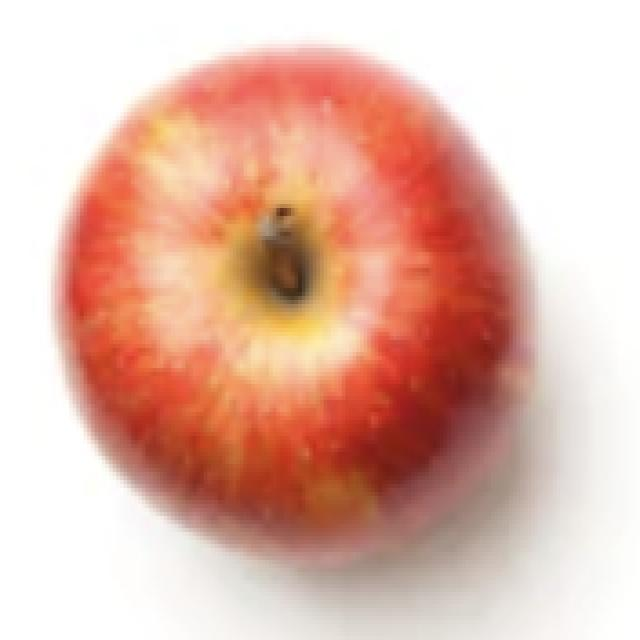Fresh Apple: (60, 46, 530, 586)
